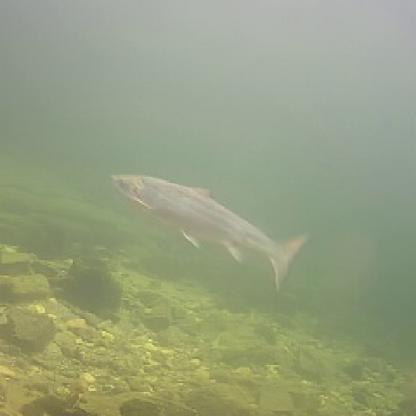salmon: (106, 166, 310, 288)
